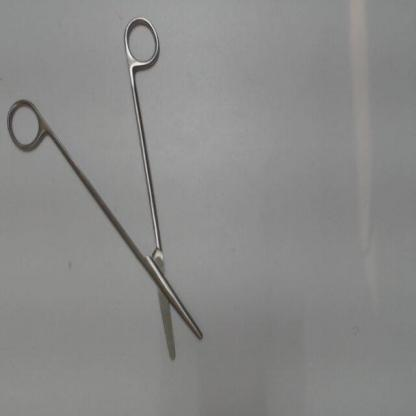9 Metzenbaum Scissors: (4, 6, 207, 364)
